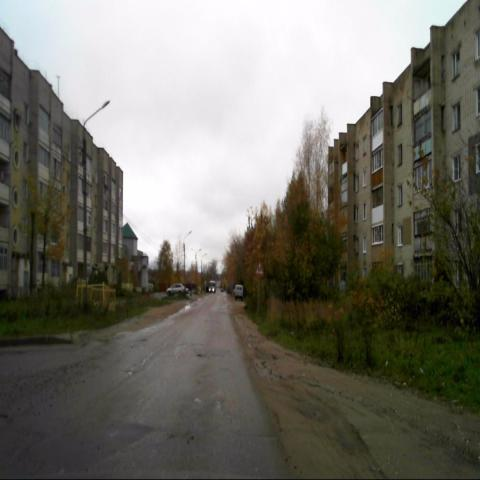1_23: (254, 259, 265, 278)
